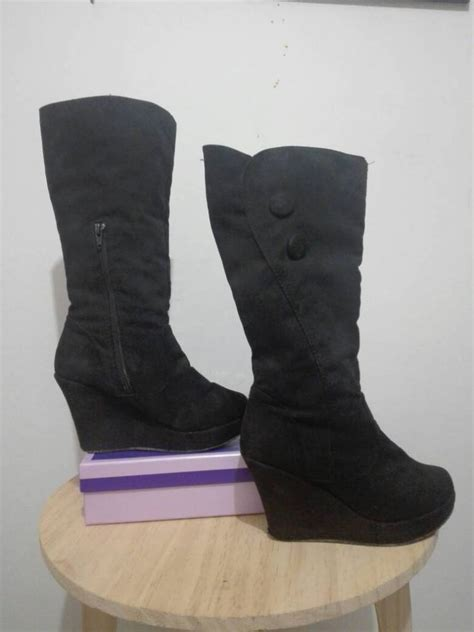gamuza: (39, 96, 456, 523)
